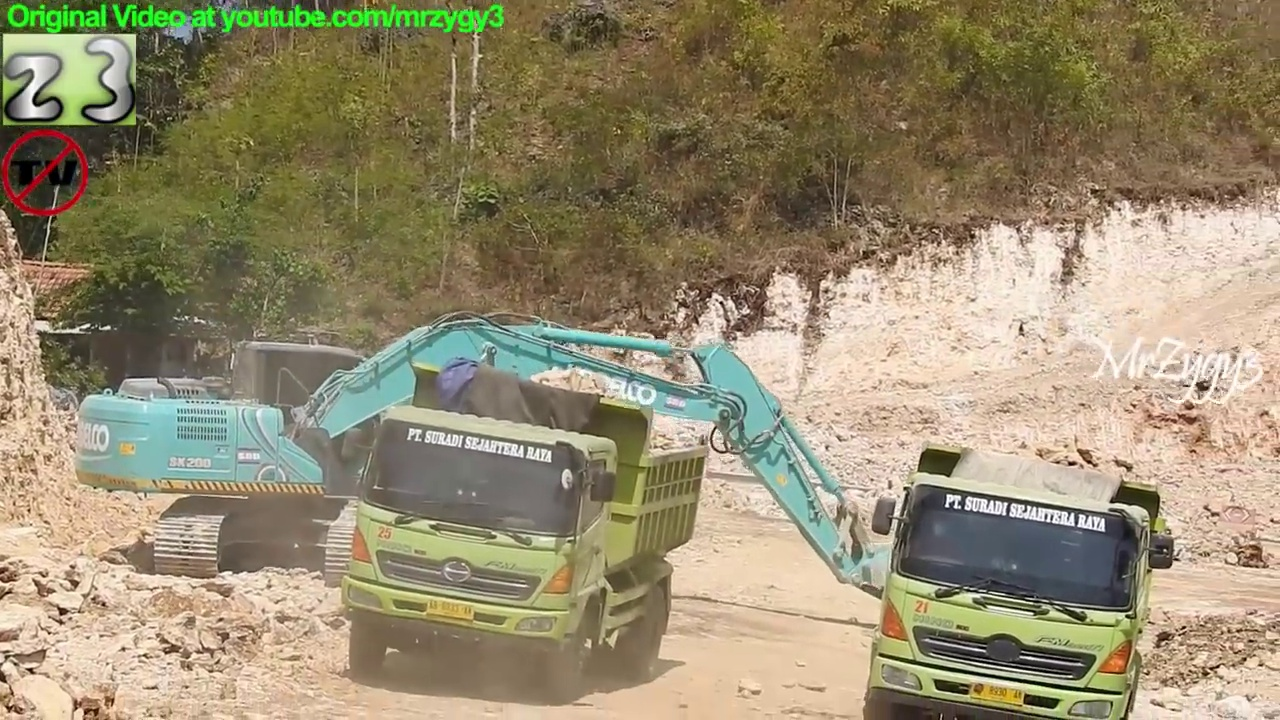excavator: (68, 305, 1013, 654)
truck: (334, 354, 715, 709), (860, 437, 1182, 720)
